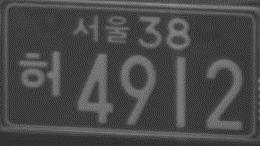1: (171, 53, 191, 129)
2: (204, 57, 247, 133)
3: (137, 13, 161, 50)
4: (75, 51, 115, 125)
8: (165, 16, 192, 51)
9: (118, 51, 159, 127)
서울_O: (72, 14, 130, 46)
허: (19, 47, 64, 99)
